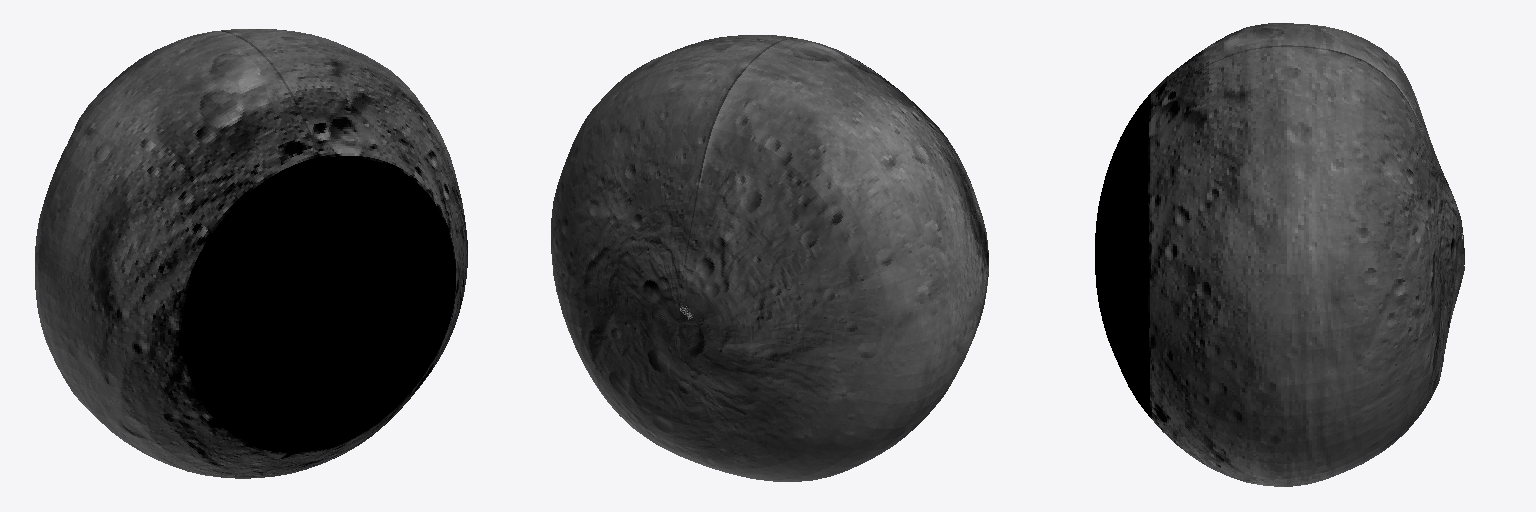
3 renders of one model, left to right at view 1: azimuth 30°, elevation 25°; view 2: azimuth 150°, elevation 25°; view 3: azimuth 270°, elevation 25°, orthographic.
Size of the model in its own units: 563 by 577 by 461.
Materials: 1 (1 with a texture image).